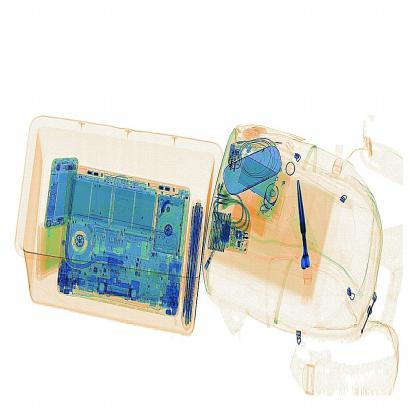gun: (291, 172, 311, 278)
